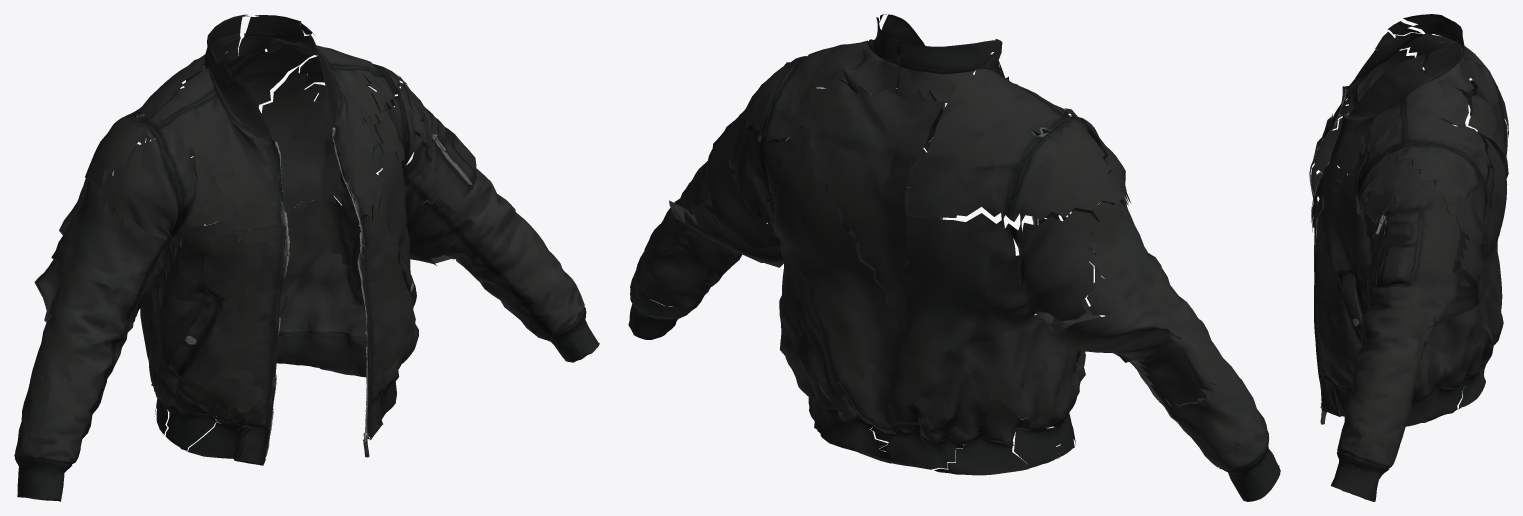
The model's file is dante.mobile.glb.
The picture shows the model from 3 angles, left to right: view 1: azimuth 30°, elevation 25°; view 2: azimuth 150°, elevation 25°; view 3: azimuth 270°, elevation 25°; orthographic projection. The views are drawn at different scales.
Visible parts, largest first — view 1: geometry_0; view 2: geometry_0; view 3: geometry_0.
Boxes of the visible parts, <box> form: geometry_0: <box>14,14,599,501</box>; geometry_0: <box>628,14,1280,501</box>; geometry_0: <box>1309,14,1508,501</box>.
Bounding box in the file's own units: 0.9862 × 0.6558 × 0.3235.
Materials: 1 (1 with a texture image).
